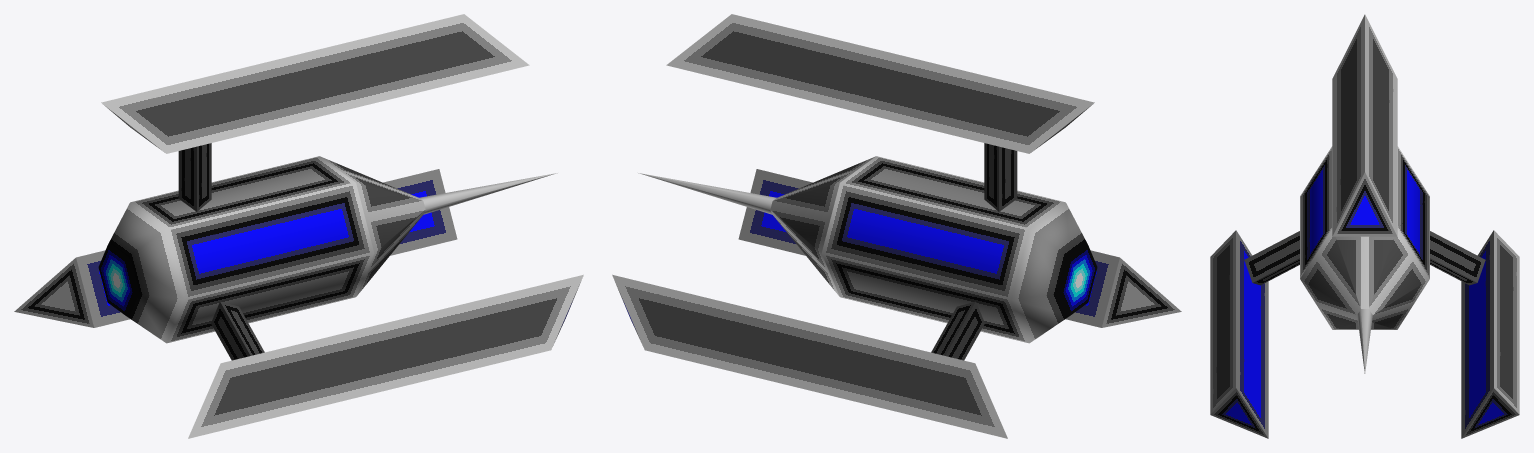
Rendered from Grapple.obj.
The picture shows the model from 3 angles, left to right: view 1: azimuth 30°, elevation 25°; view 2: azimuth 150°, elevation 25°; view 3: azimuth 270°, elevation 25°; orthographic projection. The views are drawn at different scales.
Size of the model in its own units: 2.9 by 1.67 by 1.91.
1 material, 1 textured.
